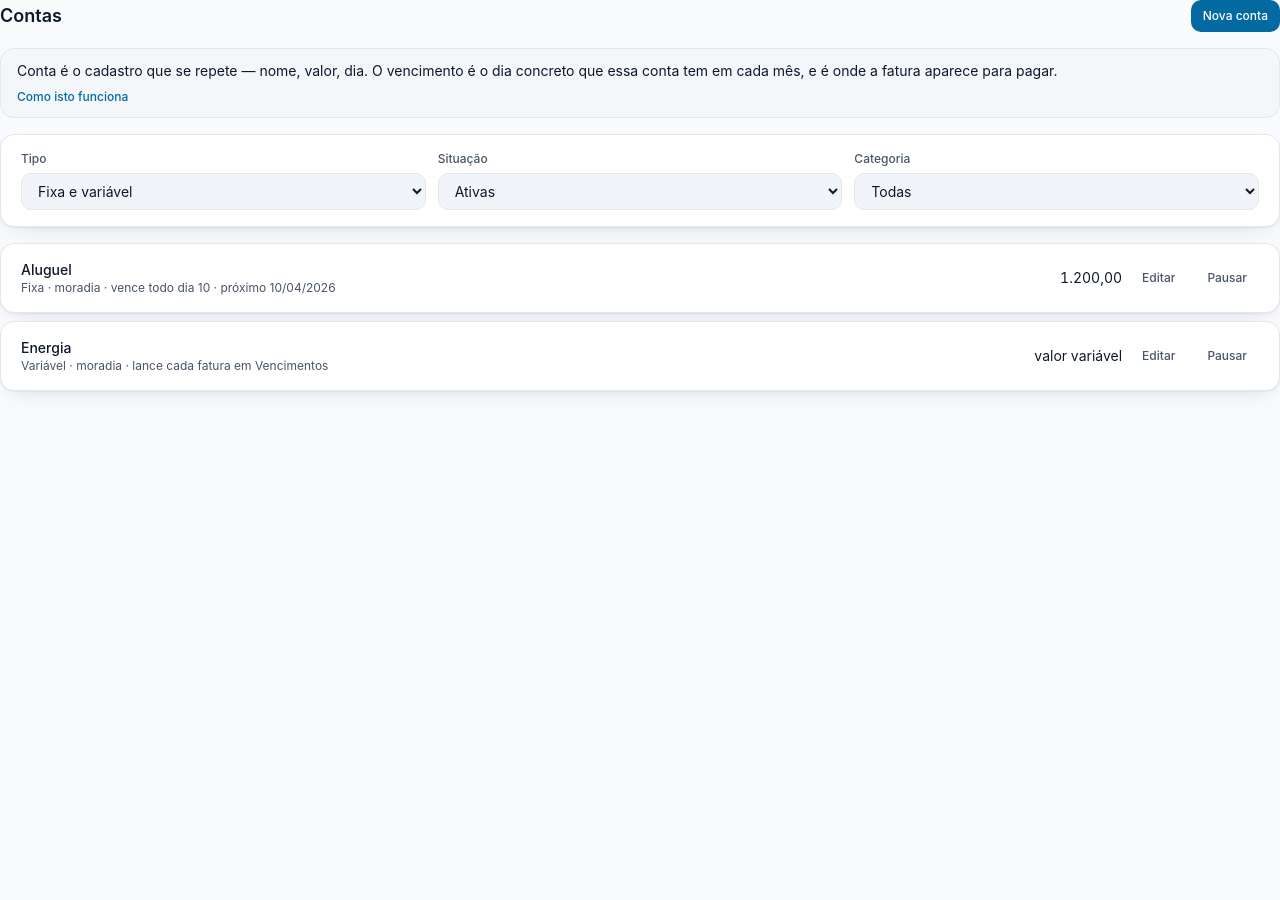
it: BillListPage › esconde a cadência na conta variável, porque o campo não existe ali
Expected: the text "Aluguel" is shown, [21,261,72,278]
Click the button "Nova conta".
click(1235, 16)  # box [1191,0,1279,32]
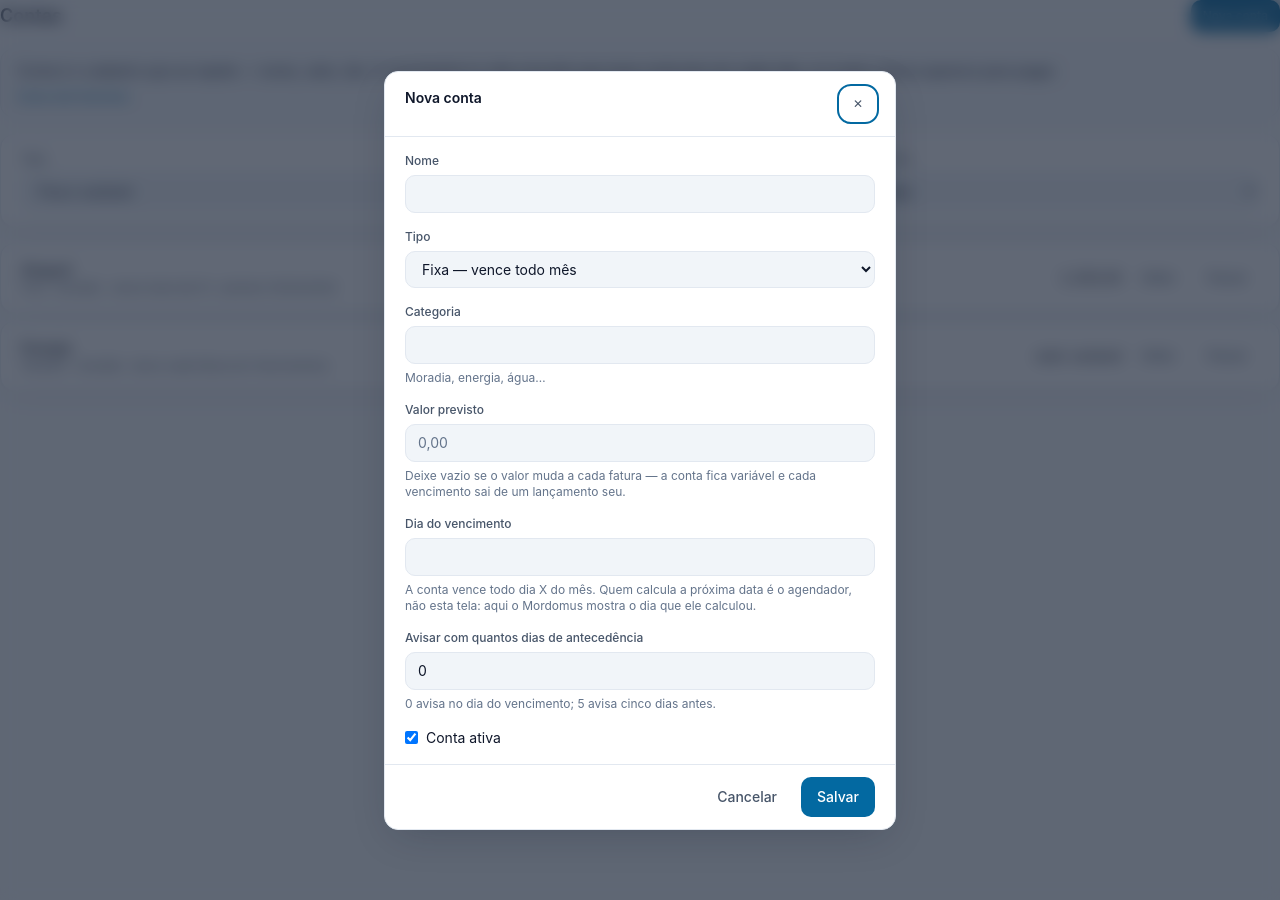
Select "Variável — você lança cada fatura" in the dropdown labelled "Tipo" at (640, 269), box [405,250,875,288]
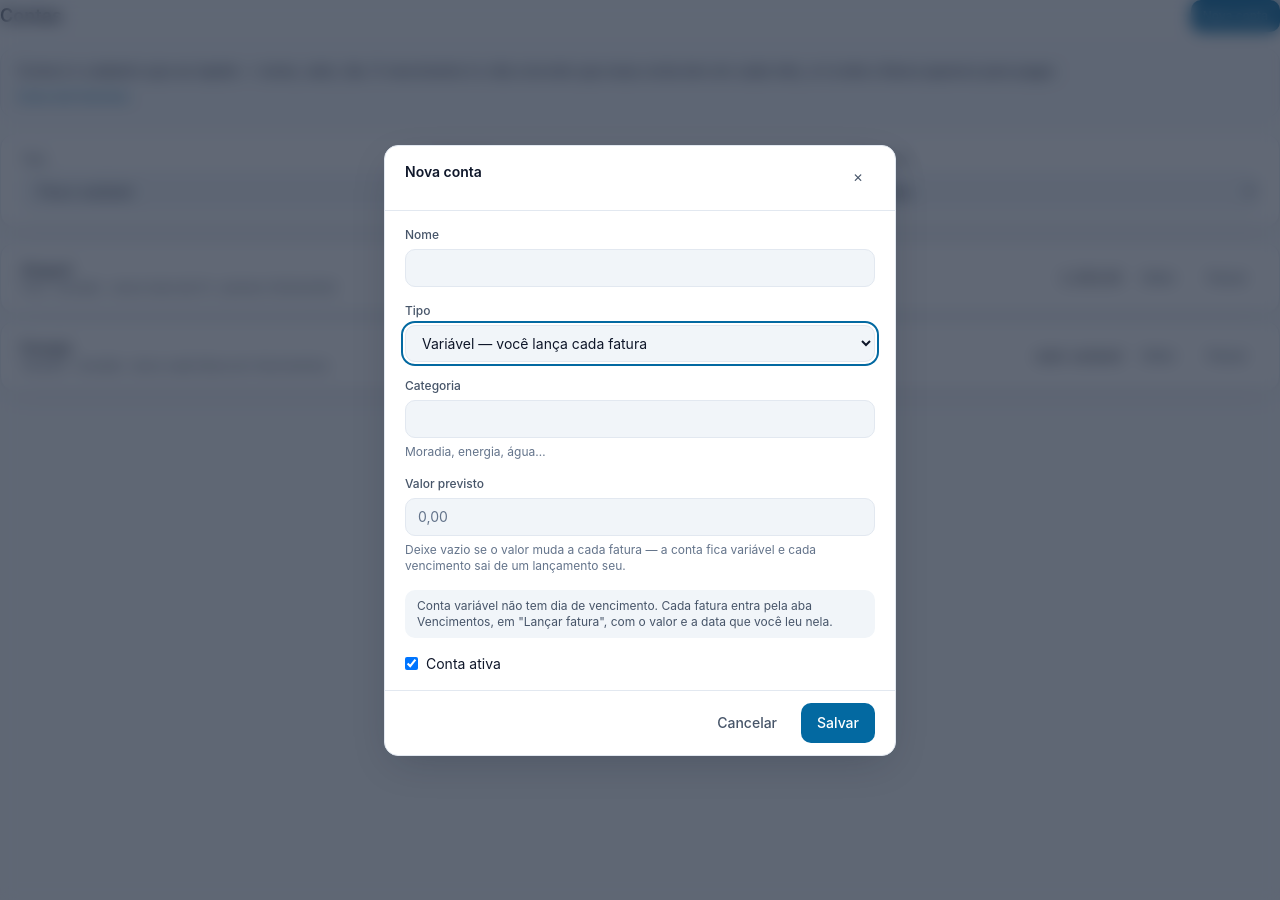
Now the label labelled "Dia do vencimento" is gone
